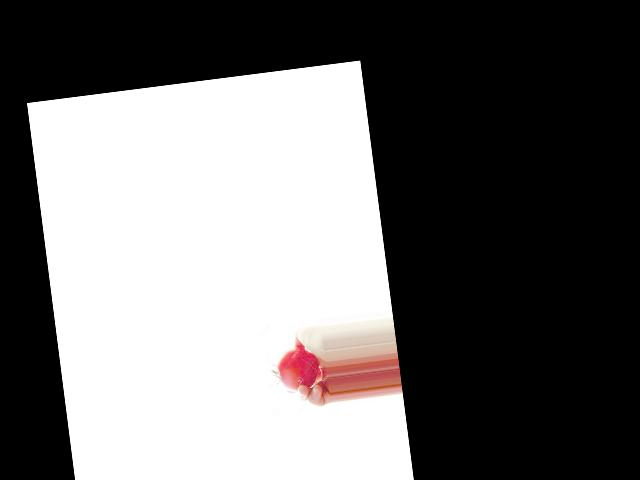tomato: (273, 345, 321, 394)
